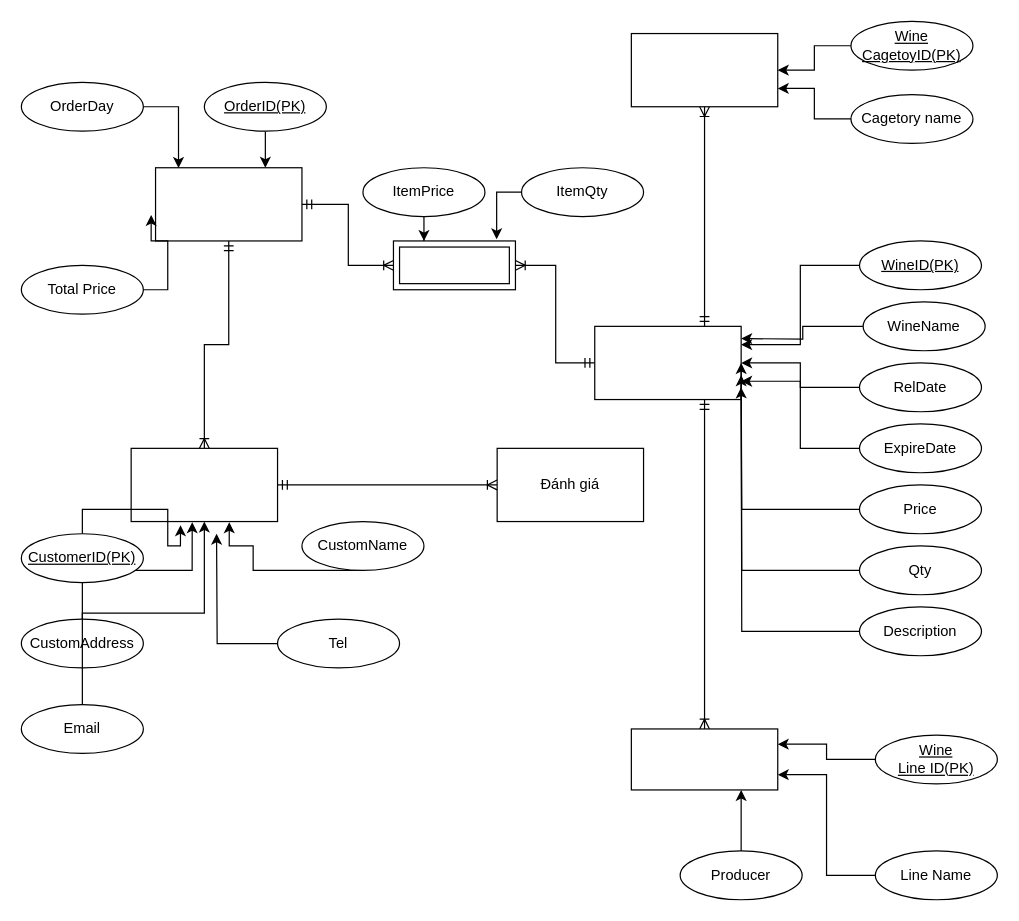
Image size: 1019x921. Some labels were removed from this diagram. The centre of each missing label's shape, as x and y in pixels:
Chủng loại Rượu: [704,69]
Dòng rượu: [704,759]
Khách Hàng: [204,484]
Wine: [667,362]
đơn hàng: [228,204]
Đơn hàng sản phẩm: [453,265]
